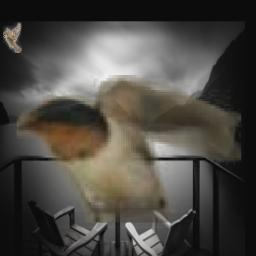Sparrow: (2, 23, 21, 54)
Swallow: (17, 76, 241, 224)
